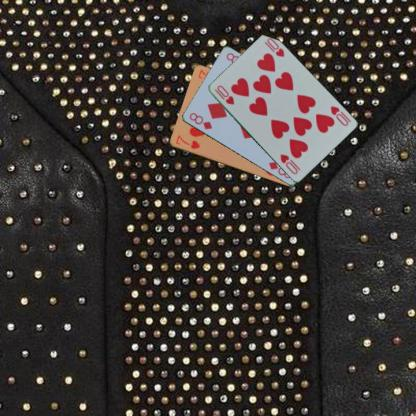10h: (212, 83, 235, 106), (328, 104, 349, 127)
7h: (173, 132, 201, 150)
8d: (187, 109, 213, 130)
